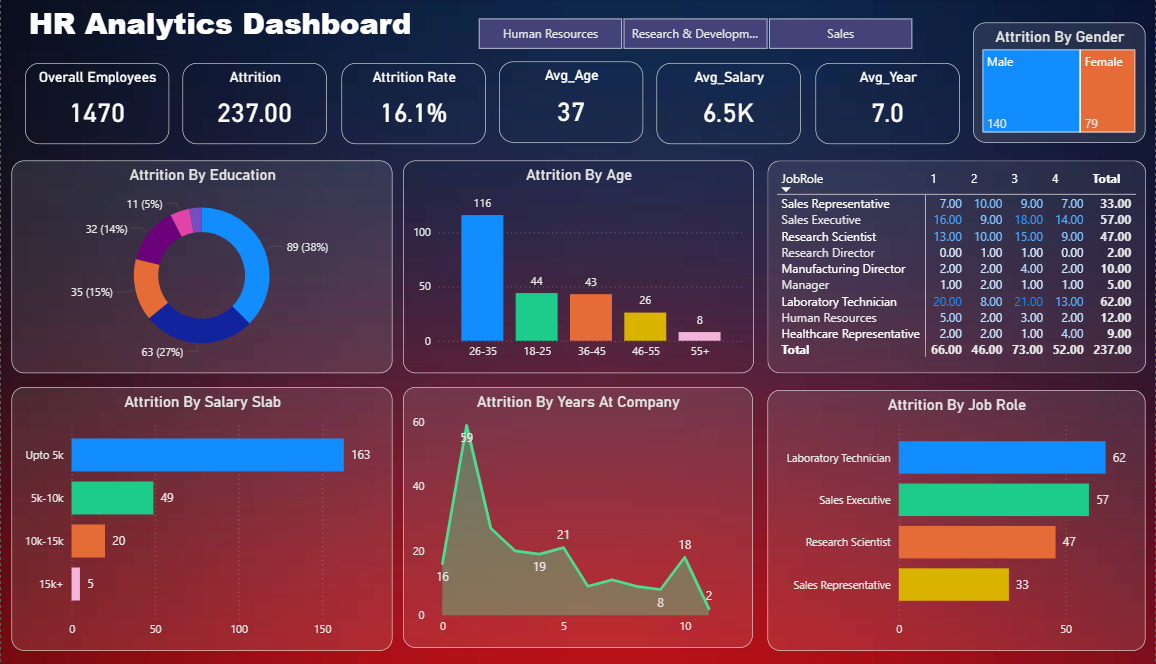

The dashboard page shown, as its layout file describes it:
{"tool":"powerbi","page":{"name":"Page 1","canvas":[1280,720],"ordinal":0},"visuals":[{"type":"card","title":"Overall Employees","fields":{"Values":["CountNonNull(HR_Analytics.EmpID)"]},"box":[26.7,73.3,150,88.3],"z":0},{"type":"card","title":"Attrition","fields":{"Values":["Sum(HR_Analytics.AtteritionCount)"]},"box":[200,73.3,150,86.7],"z":1000},{"type":"card","title":"Avg_Age","fields":{"Values":["Avg(HR_Analytics.Age)"]},"box":[563.3,71.7,151.7,86.7],"z":2000},{"type":"card","title":"Avg_Salary","fields":{"Values":["Avg(HR_Analytics.MonthlyIncome)"]},"box":[743.3,73.3,133.3,85],"z":3000},{"type":"card","title":"Avg_Year","fields":{"Values":["Avg(HR_Analytics.YearsAtCompany)"]},"box":[901.7,73.3,143.3,85],"z":4000},{"type":"donutChart","title":"Attrition By Education","fields":{"Category":["HR_Analytics.EducationField"],"Y":["Sum(HR_Analytics.AtteritionCount)"]},"box":[25,181.7,336.7,246.7],"z":5000},{"type":"columnChart","title":"Attrition By Age","fields":{"Category":["HR_Analytics.AgeGroup"],"Y":["Sum(HR_Analytics.AtteritionCount)"]},"box":[398.3,181.7,381.7,236.7],"z":6000},{"type":"pivotTable","fields":{"Rows":["HR_Analytics.JobRole"],"Columns":["HR_Analytics.JobSatisfaction"],"Values":["Sum(HR_Analytics.AtteritionCount)"]},"box":[818.3,188.3,425,240],"z":7000},{"type":"barChart","title":"Attrition By Salary Slab","fields":{"Category":["HR_Analytics.SalarySlab"],"Y":["Sum(HR_Analytics.AtteritionCount)"]},"box":[26.7,453.3,350,248.3],"z":8000},{"type":"barChart","title":"Attrition By Job Role","fields":{"Category":["HR_Analytics.JobRole"],"Y":["Sum(HR_Analytics.AtteritionCount)"]},"box":[846.7,466.7,395,225],"z":9000},{"type":"areaChart","title":"Attrition By Years At Company","fields":{"Category":["HR_Analytics.YearsAtCompany"],"Y":["Sum(HR_Analytics.AtteritionCount)"]},"box":[420,453.3,381.7,238.3],"z":10000},{"type":"treemap","title":"Attrition By Gender","fields":{"Group":["HR_Analytics.Gender"],"Values":["Sum(HR_Analytics.AtteritionCount)"]},"box":[1078.3,28.3,165,133.3],"z":11000},{"type":"slicer","fields":{"Values":["HR_Analytics.Department"]},"box":[576,1,451.1,55.6],"z":12000},{"type":"textbox","box":[0,0,548.9,55.6],"z":13000},{"type":"card","title":"Attrition Rate","fields":{"Values":["HR_Analytics.AttritionRate"]},"box":[376.7,73.3,160,86.7],"z":14000}]}

Visuals, with their boxes in screenshot pixels (x1, y1, x2, y2), scaled from the page's 1280x720 canvas onto the 1156x664 screenshot:
"Overall Employees" card: <box>24,68,160,149</box>
"Attrition" card: <box>181,68,316,148</box>
"Avg_Age" card: <box>509,66,646,146</box>
"Avg_Salary" card: <box>671,68,792,146</box>
"Avg_Year" card: <box>814,68,944,146</box>
"Attrition By Education" donutChart: <box>23,168,327,395</box>
"Attrition By Age" columnChart: <box>360,168,704,386</box>
pivotTable - HR_Analytics.JobRole x HR_Analytics.JobSatisfaction: <box>739,174,1123,395</box>
"Attrition By Salary Slab" barChart: <box>24,418,340,647</box>
"Attrition By Job Role" barChart: <box>765,430,1121,638</box>
"Attrition By Years At Company" areaChart: <box>379,418,724,638</box>
"Attrition By Gender" treemap: <box>974,26,1123,149</box>
slicer - HR_Analytics.Department: <box>520,1,928,52</box>
textbox: <box>0,0,496,51</box>
"Attrition Rate" card: <box>340,68,485,148</box>
